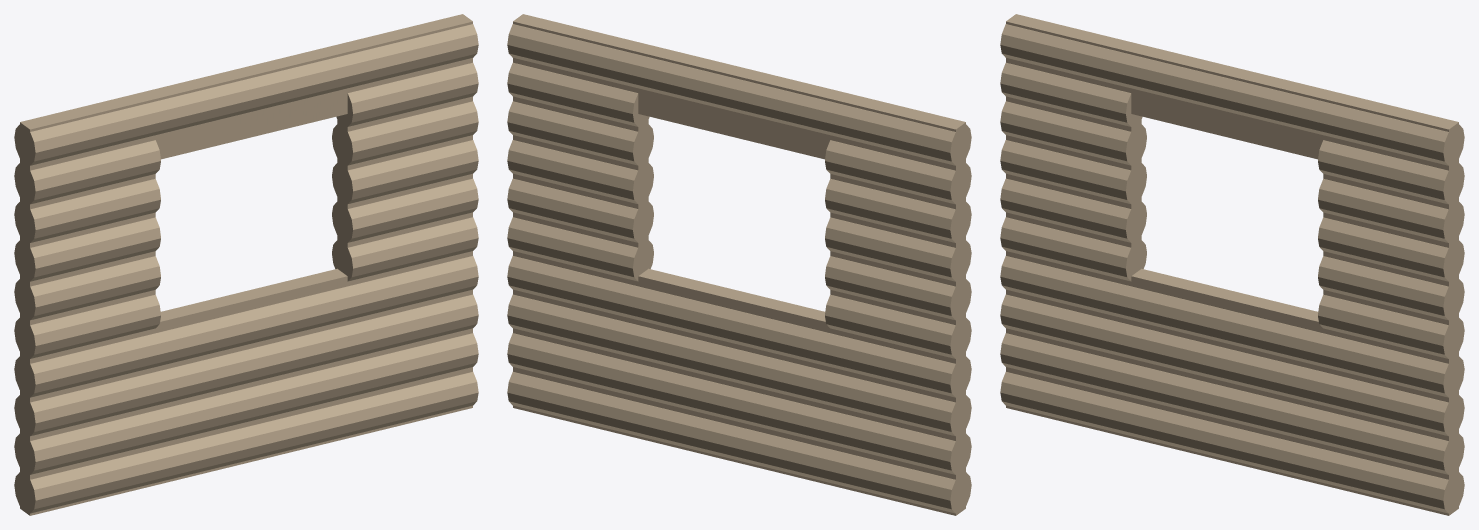
Rendered from wall-log-window-0-lod0.glb.
3 renders of one model, left to right at view 1: azimuth 30°, elevation 25°; view 2: azimuth 150°, elevation 25°; view 3: azimuth 330°, elevation 25°, orthographic.
Parts seen in each view (by area): view 1: Hewn stacked log.033, Hewn stacked log.044, Hewn stacked log.030, Hewn stacked log.031, Hewn stacked log.032, Log infill.004, Log infill.005, Log infill.006, Log infill.007, Hewn stacked log.038, Hewn stacked log.034, Hewn stacked log.042 (+7 smaller); view 2: Hewn stacked log.044, Hewn stacked log.033, Hewn stacked log.030, Hewn stacked log.031, Hewn stacked log.032, Log infill.004, Log infill.005, Log infill.006, Log infill.007, Hewn stacked log.039, Hewn stacked log.041, Hewn stacked log.037 (+7 smaller); view 3: Hewn stacked log.033, Hewn stacked log.030, Hewn stacked log.031, Hewn stacked log.032, Hewn stacked log.044, Log infill.005, Log infill.004, Log infill.006, Log infill.007, Hewn stacked log.038, Hewn stacked log.036, Hewn stacked log.040 (+7 smaller).
Part boxes in pixels (bbox=[...]): Hewn stacked log.033: bbox=[14, 256, 478, 397]; Hewn stacked log.044: bbox=[14, 24, 478, 165]; Hewn stacked log.030: bbox=[14, 372, 478, 513]; Hewn stacked log.031: bbox=[14, 333, 478, 474]; Hewn stacked log.032: bbox=[14, 294, 478, 436]; Log infill.004: bbox=[20, 91, 155, 515]; Log infill.005: bbox=[337, 14, 472, 438]; Log infill.006: bbox=[155, 268, 347, 484]; Log infill.007: bbox=[145, 44, 347, 159]; Hewn stacked log.038: bbox=[14, 217, 160, 281]; Hewn stacked log.034: bbox=[14, 294, 160, 358]; Hewn stacked log.042: bbox=[14, 140, 160, 204]; Hewn stacked log.044: bbox=[507, 24, 971, 165]; Hewn stacked log.033: bbox=[507, 256, 971, 397]; Hewn stacked log.030: bbox=[507, 372, 971, 513]; Hewn stacked log.031: bbox=[507, 333, 971, 474]; Hewn stacked log.032: bbox=[507, 294, 971, 436]; Log infill.004: bbox=[830, 91, 965, 515]; Log infill.005: bbox=[513, 14, 648, 438]; Log infill.006: bbox=[638, 268, 830, 484]; Log infill.007: bbox=[638, 44, 840, 159]; Hewn stacked log.039: bbox=[507, 140, 653, 203]; Hewn stacked log.041: bbox=[507, 101, 653, 165]; Hewn stacked log.037: bbox=[507, 178, 653, 242]; Hewn stacked log.033: bbox=[1000, 256, 1464, 397]; Hewn stacked log.030: bbox=[1000, 372, 1464, 513]; Hewn stacked log.031: bbox=[1000, 333, 1464, 474]; Hewn stacked log.032: bbox=[1000, 294, 1464, 436]; Hewn stacked log.044: bbox=[1000, 24, 1464, 165]; Log infill.005: bbox=[1323, 91, 1458, 515]; Log infill.004: bbox=[1006, 14, 1141, 438]; Log infill.006: bbox=[1131, 268, 1323, 484]; Log infill.007: bbox=[1131, 44, 1333, 159]; Hewn stacked log.038: bbox=[1000, 140, 1146, 203]; Hewn stacked log.036: bbox=[1000, 178, 1146, 242]; Hewn stacked log.040: bbox=[1000, 101, 1146, 165].
Size of the model in its own units: 3 by 2.5 by 0.25.
